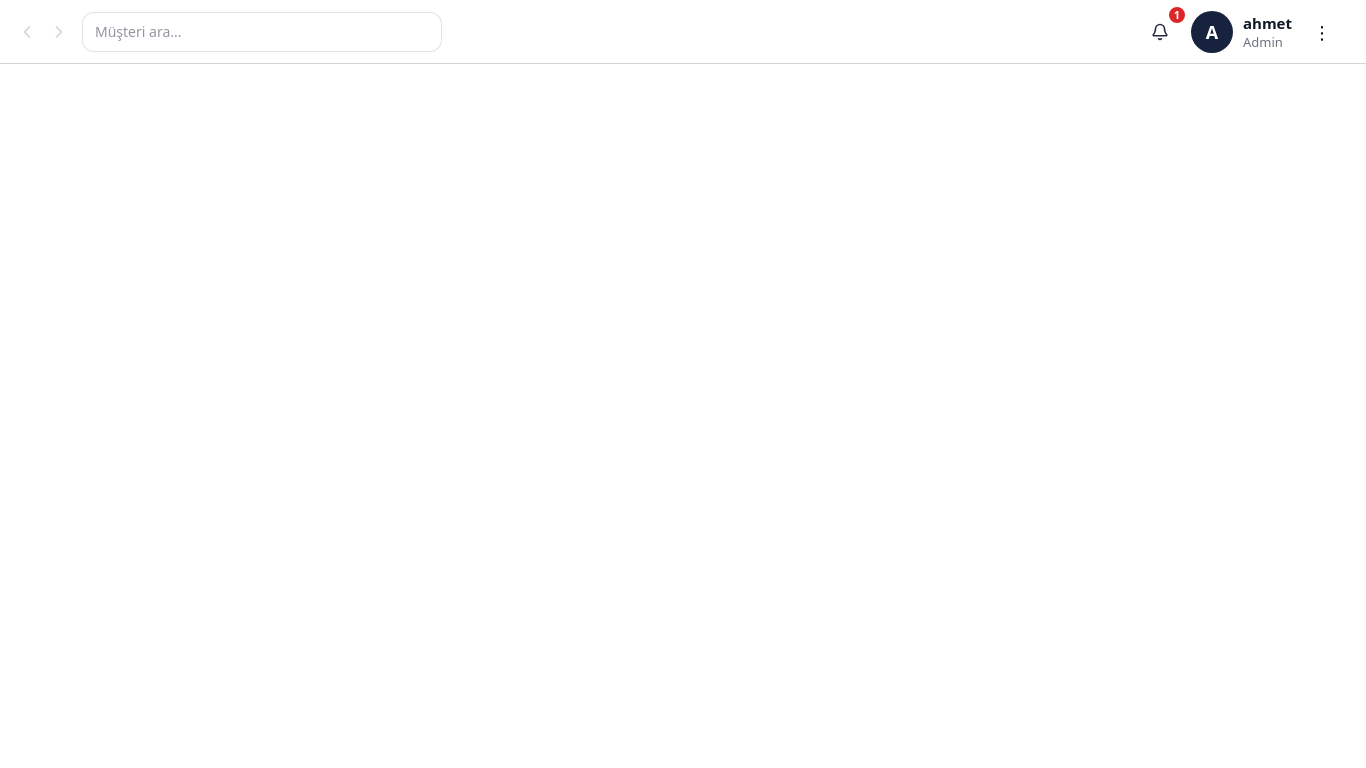
Test: Header › renders a relative time label for notifications
The width and height of the screenshot is (1366, 768).
Click the button named "Bildirimler" at [1160, 32], box [1139, 10, 1181, 52]
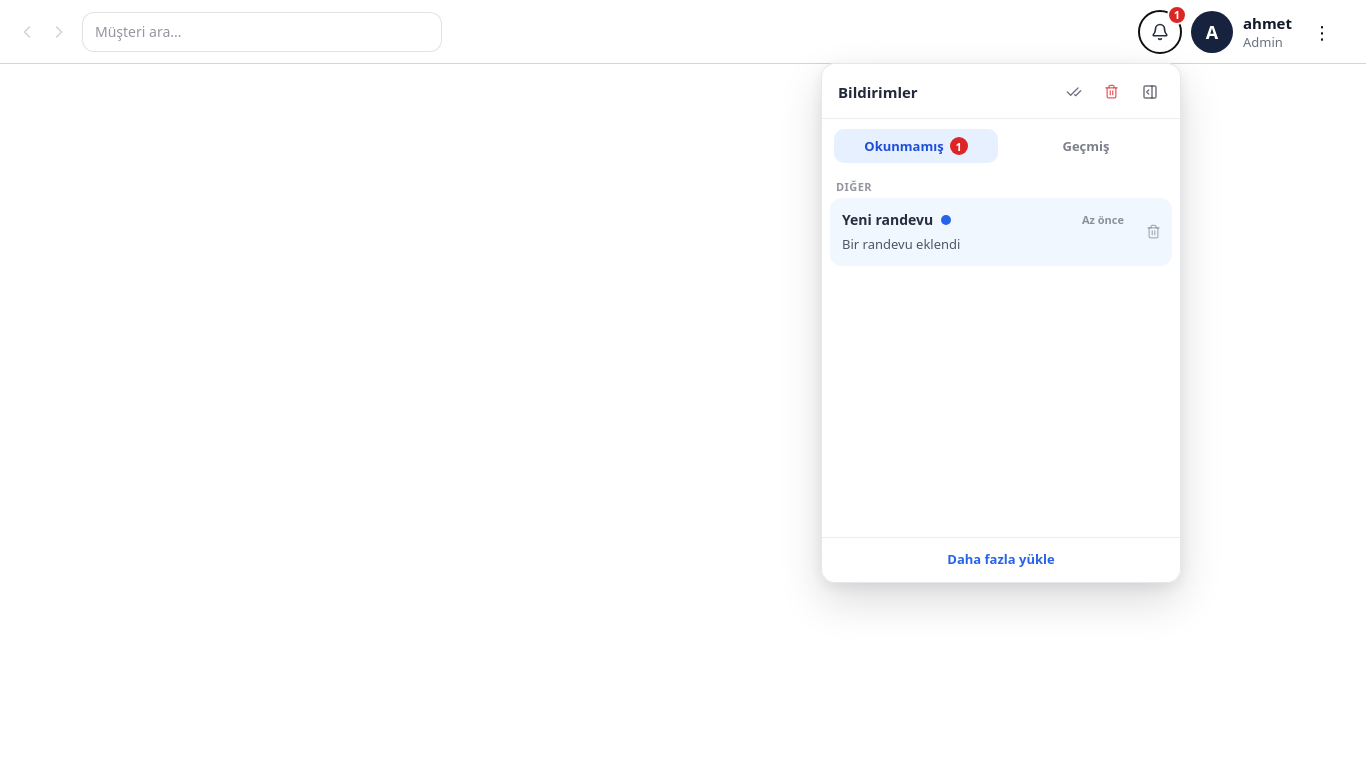
Expected: the text "Az önce" is shown, [1082, 210, 1124, 226]
